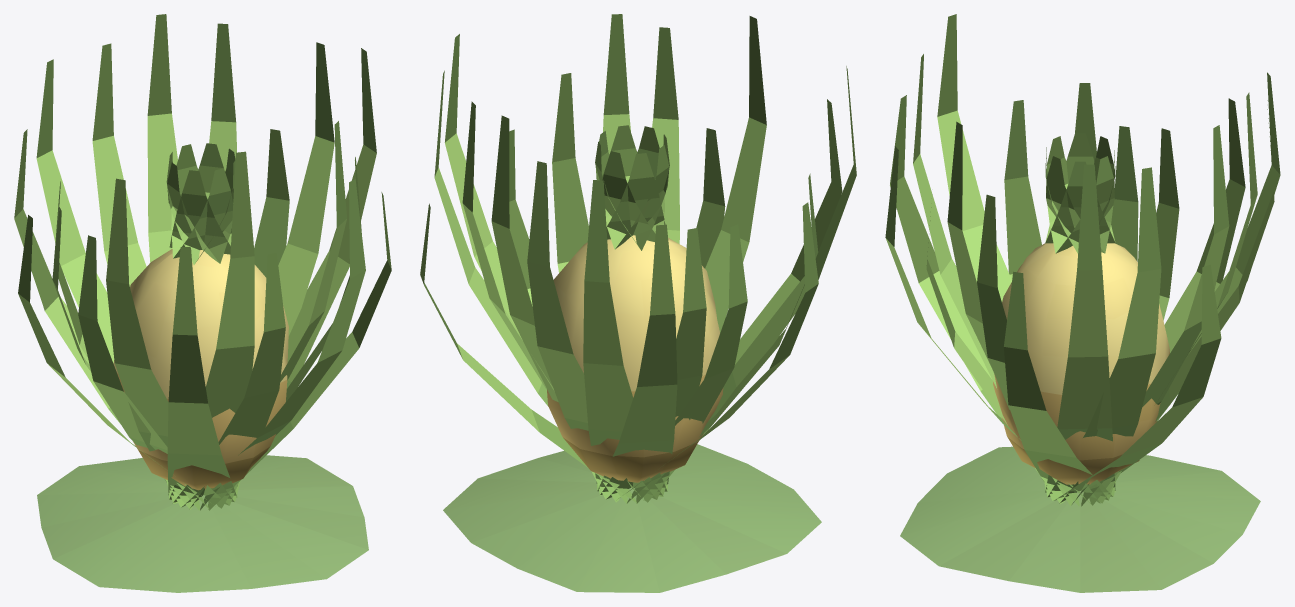
File: Pineapple_Plant.glb
The picture shows the model from 3 angles, left to right: view 1: azimuth 30°, elevation 25°; view 2: azimuth 150°, elevation 25°; view 3: azimuth 270°, elevation 25°; orthographic projection. The views are drawn at different scales.
Parts seen in each view (by area): view 1: PineapplePlant; view 2: PineapplePlant; view 3: PineapplePlant.
Boxes of the visible parts, bbox=[...] form: PineapplePlant: bbox=[14, 14, 391, 592]; PineapplePlant: bbox=[420, 14, 856, 592]; PineapplePlant: bbox=[885, 14, 1280, 592].
Bounding box in the file's own units: 0.698 × 0.8363 × 0.6736.
